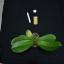leaf: (11, 40, 35, 52), (35, 41, 62, 51), (10, 35, 35, 45), (35, 35, 56, 44), (26, 30, 34, 40)
